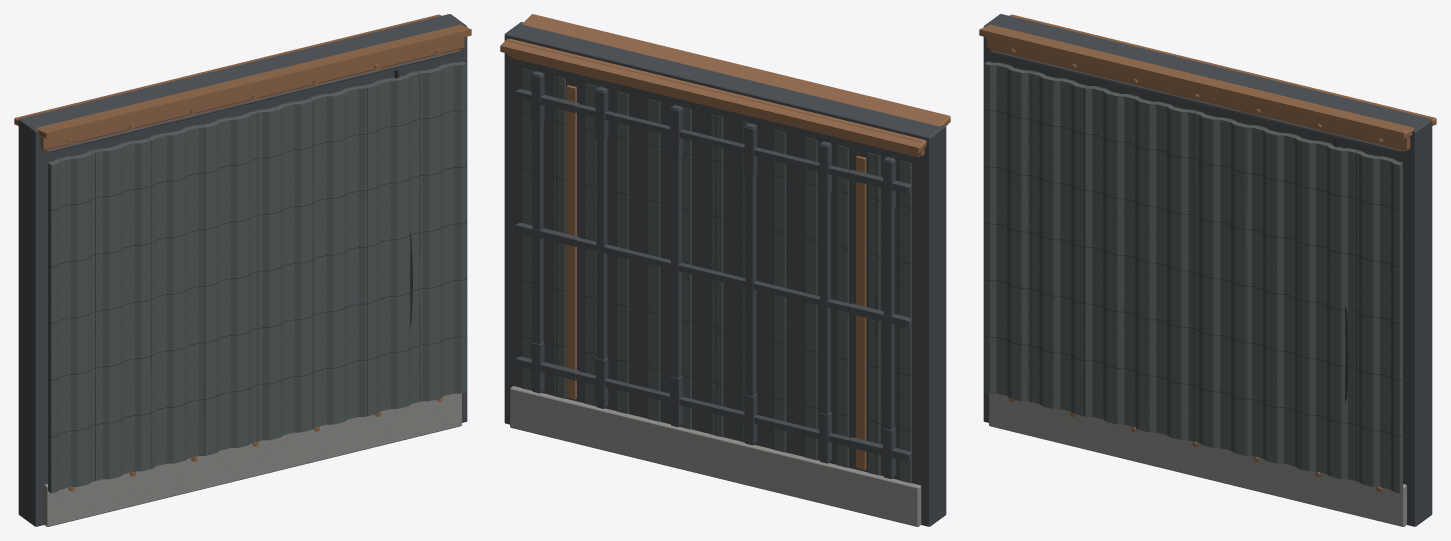
The model's file is wall.glb.
3 views of the same model, side by side, from view 1: azimuth 30°, elevation 25°; view 2: azimuth 150°, elevation 25°; view 3: azimuth 330°, elevation 25° (orthographic).
Parts seen in each view (by area): view 1: wall-bay-corrugated; view 2: wall-bay-corrugated; view 3: wall-bay-corrugated.
Boxes of the visible parts, x1=… form: wall-bay-corrugated: x1=14, y1=14, x2=471, y2=526; wall-bay-corrugated: x1=500, y1=14, x2=950, y2=526; wall-bay-corrugated: x1=979, y1=14, x2=1436, y2=526.
Bounding box in the file's own units: 4 × 3.53 × 0.5199.
6 materials, 2 textured.
